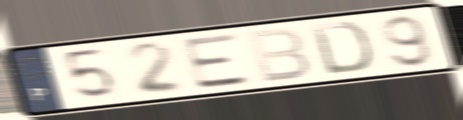2: (125, 41, 189, 97)
5: (57, 46, 121, 102)
9: (379, 13, 436, 68)
B: (244, 26, 314, 85)
D: (306, 20, 374, 77)
E: (179, 30, 257, 92)
